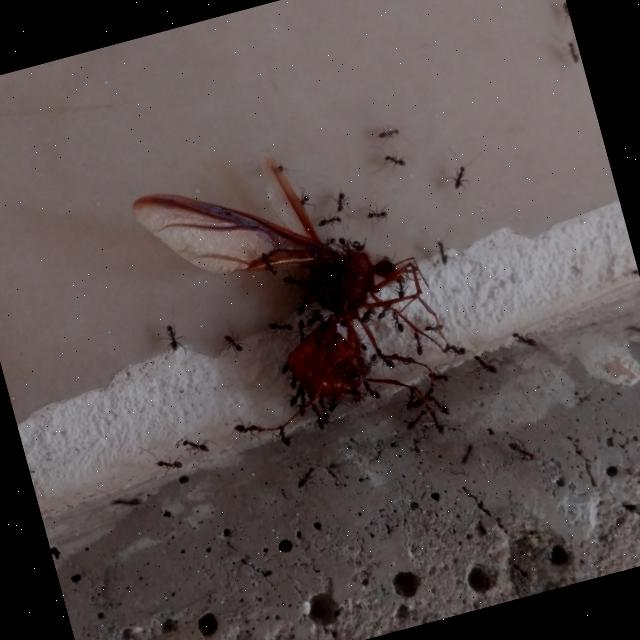Dead-Male-Alate: (128, 119, 468, 490)
